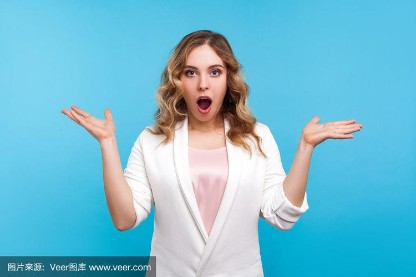张嘴: (190, 92, 216, 116)
